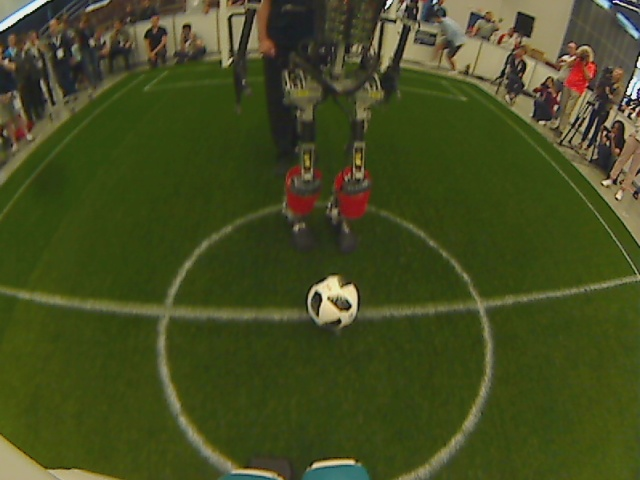ball: (303, 273, 363, 332)
